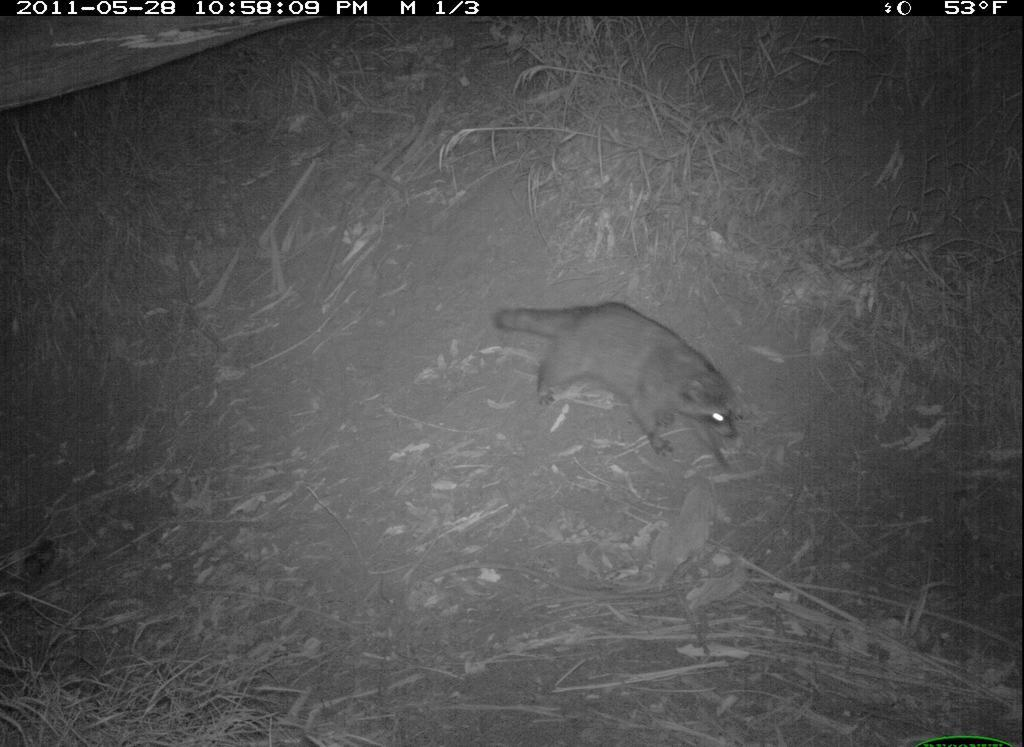raccoon: (491, 291, 748, 481)
